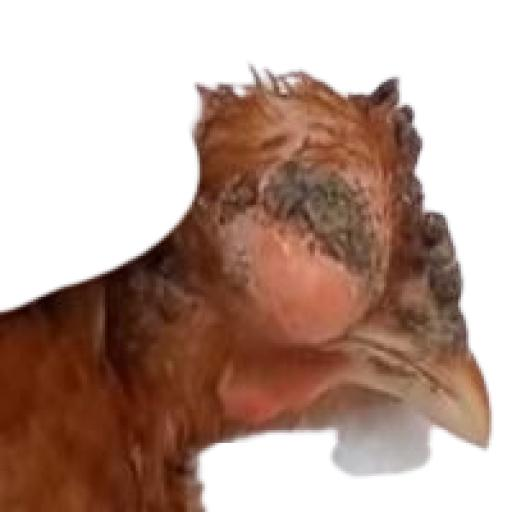disease: (351, 62, 500, 376), (228, 138, 384, 370)
